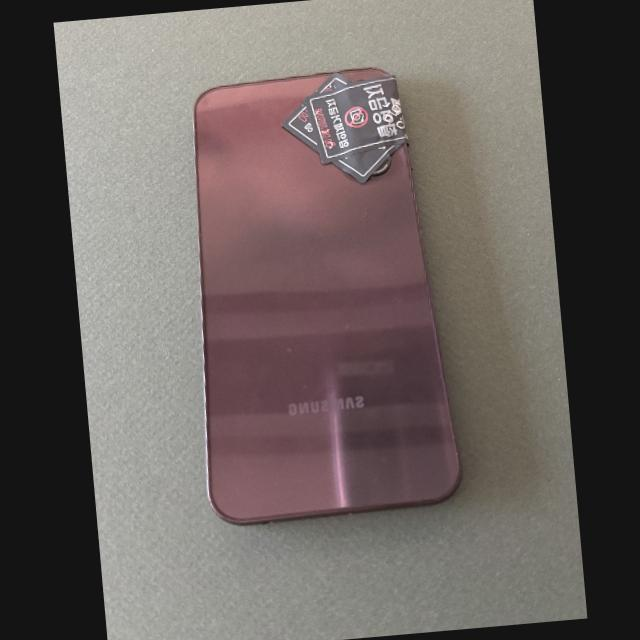phone: (193, 68, 459, 523)
sticker: (302, 72, 407, 165), (331, 143, 401, 181)
